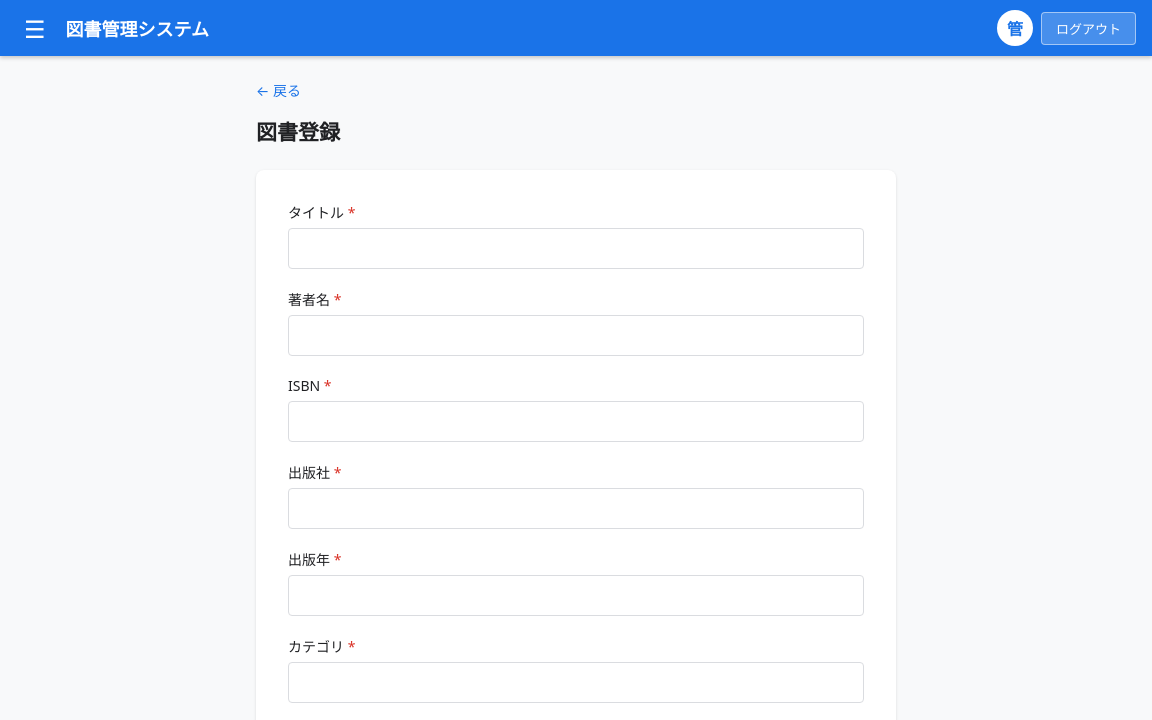
Test: BookFormPage › shows ISBN validation error for invalid format
Type "Title" into the field below "タイトル".
click(576, 248); type("Title")  # box top-left (288, 228), bottom-right (864, 269)
Type "Author" into the field below "著者名".
click(576, 336); type("Author")  # box top-left (288, 315), bottom-right (864, 356)
Type "invalid" into the field below "ISBN".
click(576, 422); type("invalid")  # box top-left (288, 401), bottom-right (864, 442)
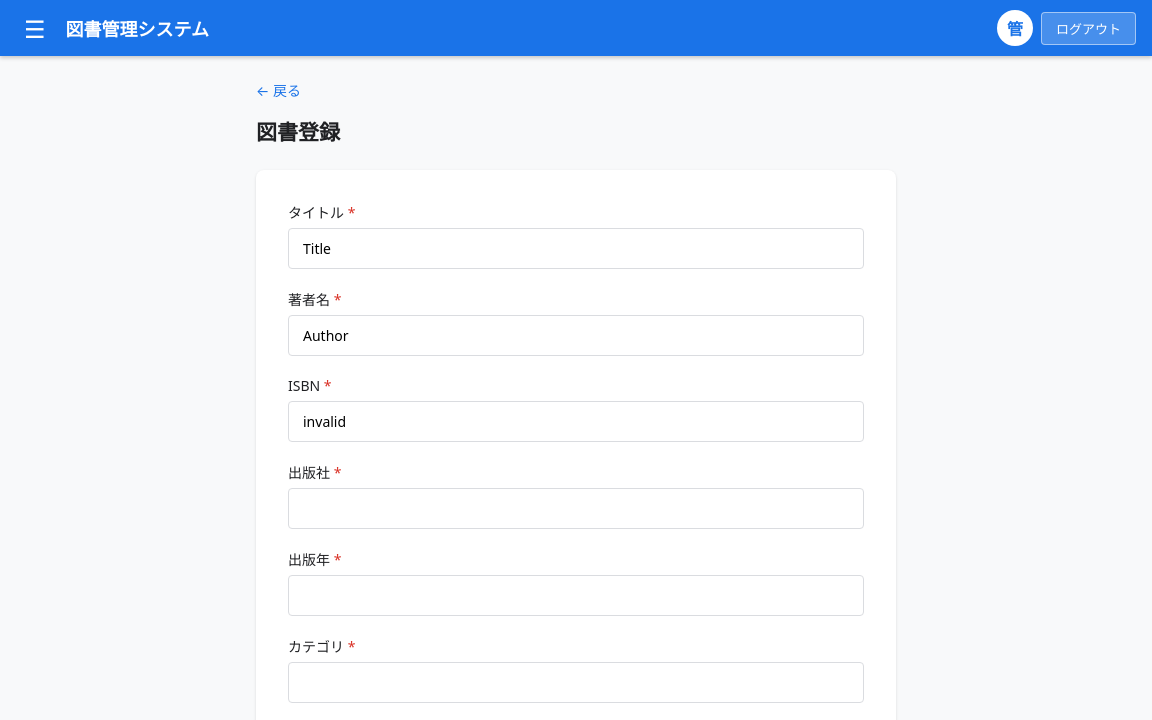
Type "Publisher" into the field below "出版社".
click(576, 508); type("Publisher")  # box top-left (288, 488), bottom-right (864, 529)
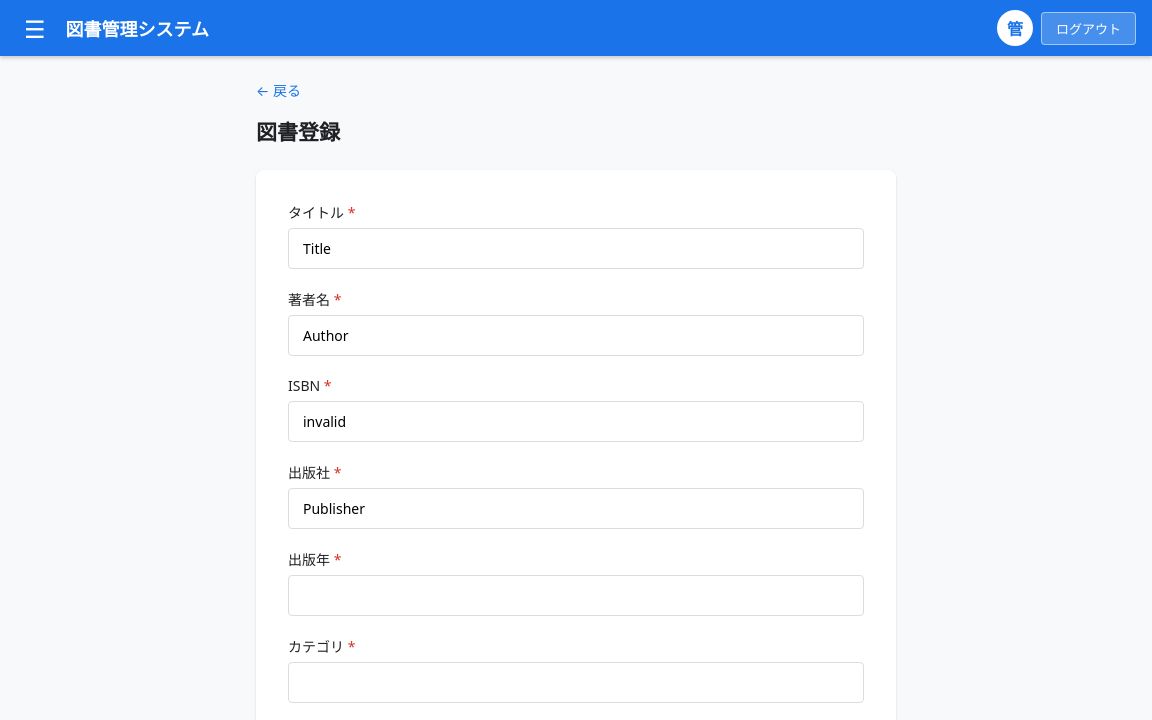
Type "2024" into the number field.
click(576, 596); type("2024")  # box top-left (288, 575), bottom-right (864, 616)
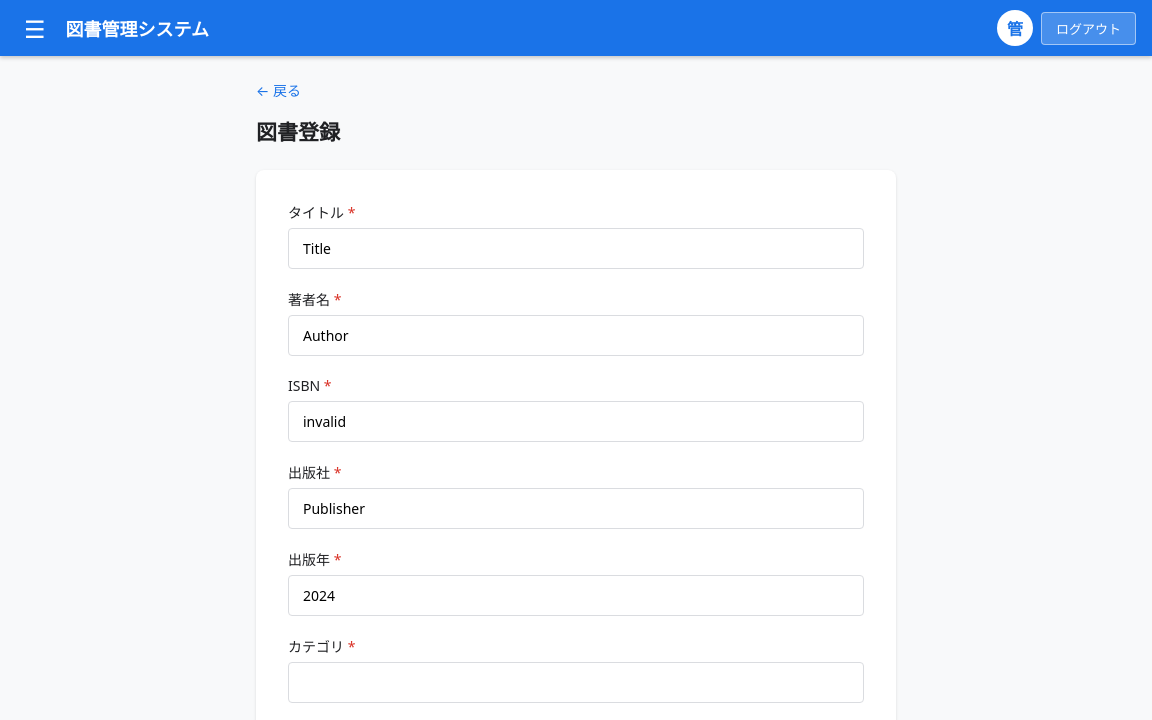
Type "IT" into the field below "カテゴリ".
click(576, 682); type("IT")  # box top-left (288, 662), bottom-right (864, 703)
(page scrolled)
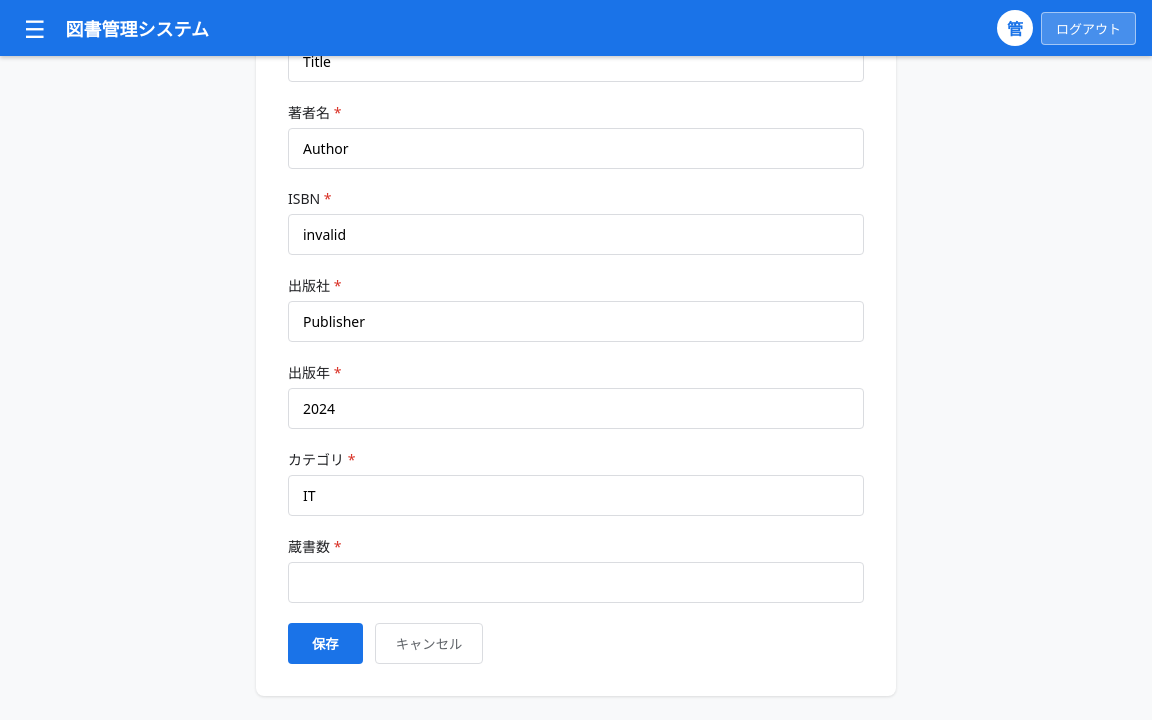
Type "1" into the number field below "蔵書数".
click(576, 582); type("1")  # box top-left (288, 562), bottom-right (864, 603)
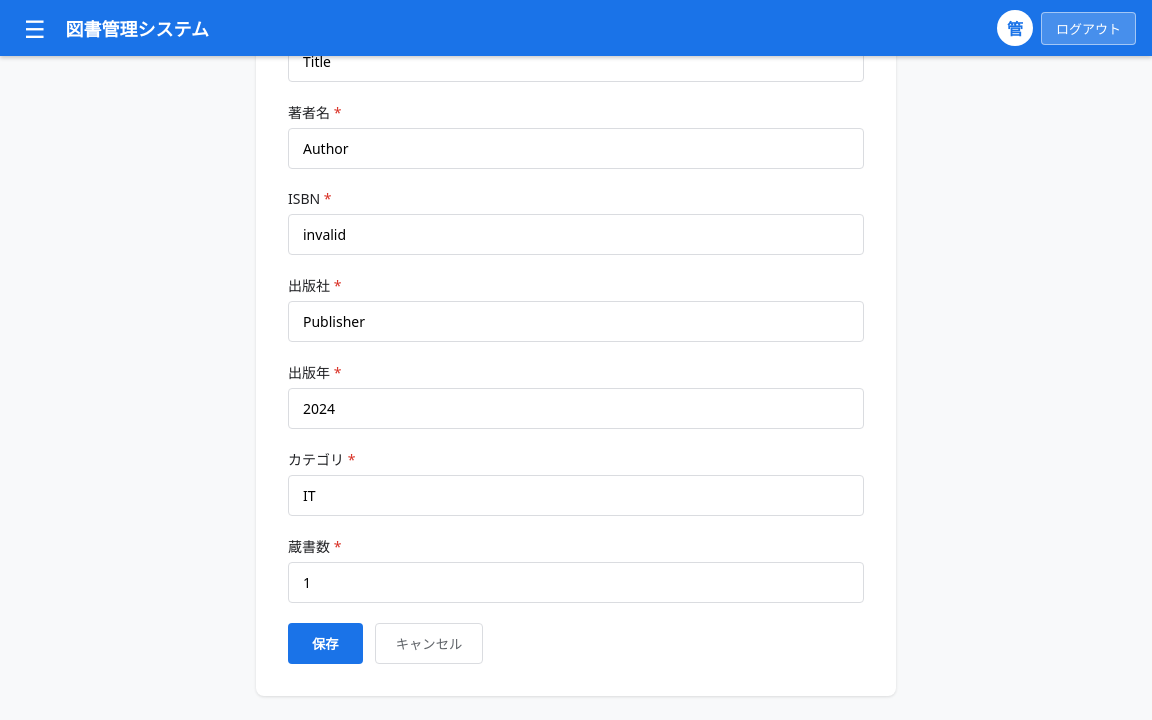
Click the button "保存".
click(325, 644)  # box top-left (288, 623), bottom-right (363, 664)
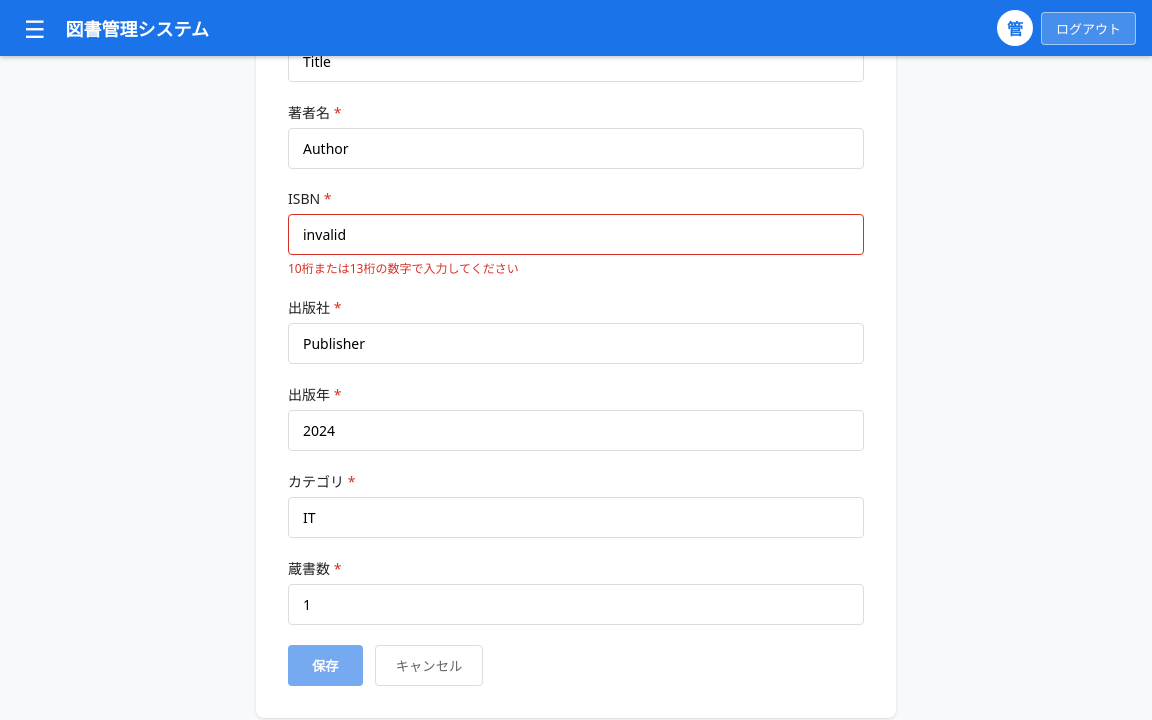
Expected: the text "10桁または13桁の数字で入力してください" is shown, top-left (288, 260), bottom-right (519, 277)
